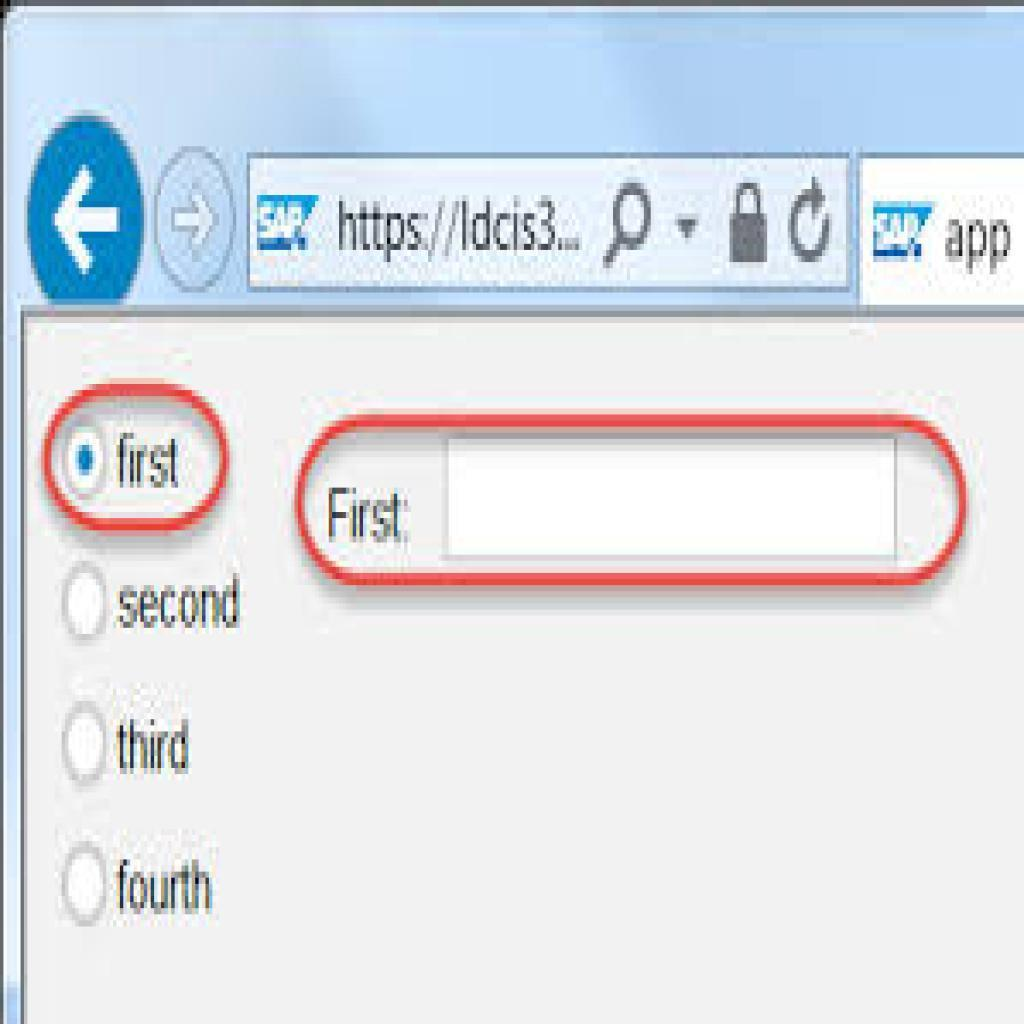input: (449, 437, 894, 556)
radio: (59, 841, 114, 959), (63, 560, 114, 655), (62, 699, 113, 786), (65, 423, 101, 491)
